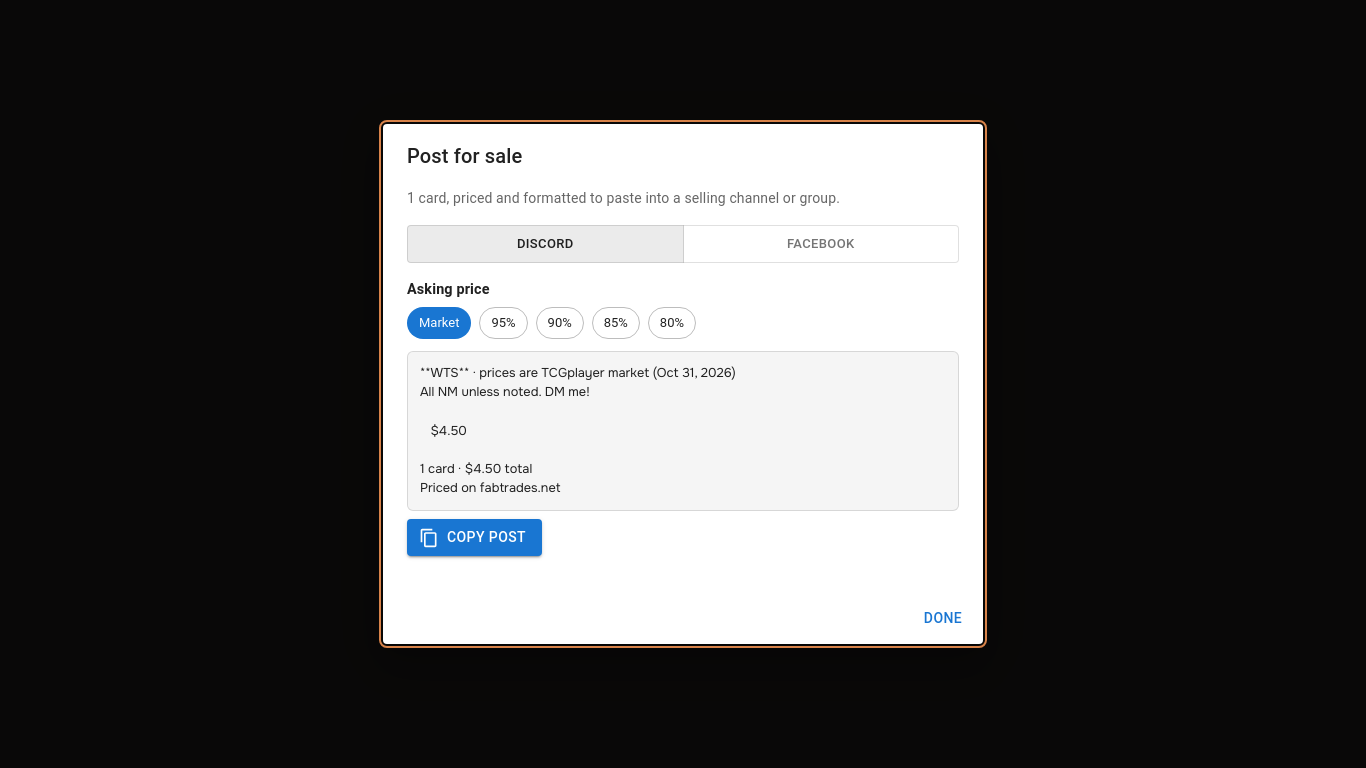
Test: SalePostDialog › switches to the Facebook format
Click the button with test id "sale-post-facebook".
click(821, 244)  # box [682,225,959,264]
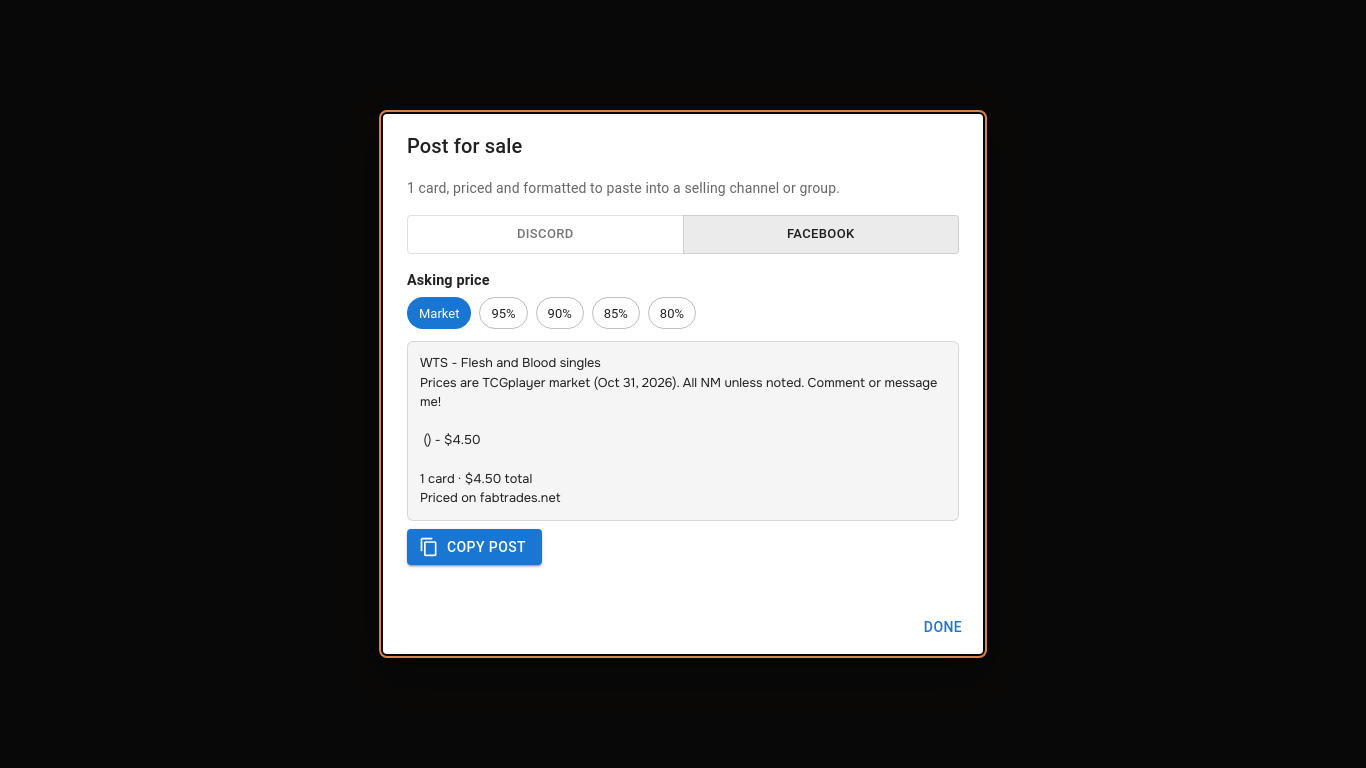
Result: the text with test id "sale-post-preview-0" shows "WTS - Flesh and Blood singles" at [420,355,941,506]
